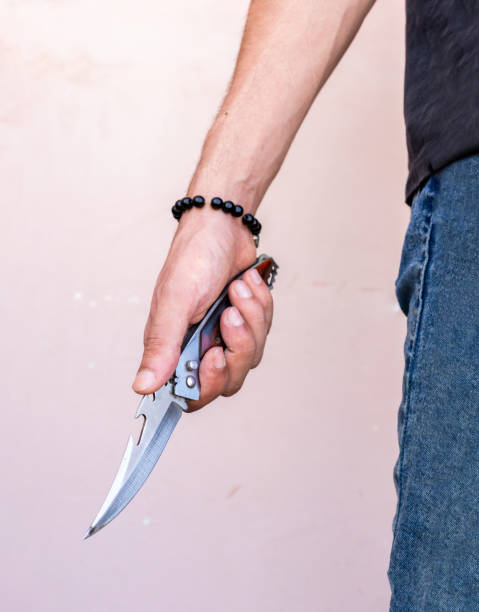knife: (80, 252, 282, 541)
